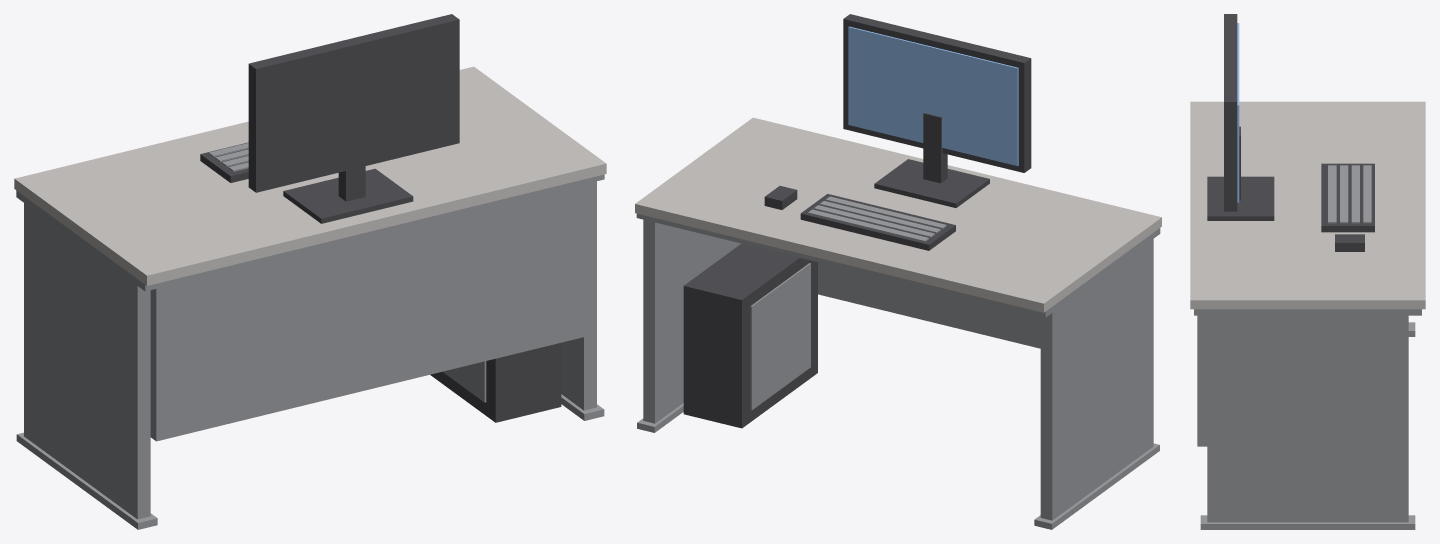
File: Workstation.fbx
3 renders of one model, left to right at view 1: azimuth 30°, elevation 25°; view 2: azimuth 150°, elevation 25°; view 3: azimuth 270°, elevation 25°, orthographic. The views are drawn at different scales.
Parts seen in each view (by area): view 1: Workstation; view 2: Workstation; view 3: Workstation.
Boxes of the visible parts, box(x1,y1,x2,y2) form: Workstation: box(14, 14, 606, 529); Workstation: box(635, 14, 1161, 529); Workstation: box(1190, 14, 1425, 529).
Bounding box in the file's own units: 1.42 × 1.22 × 0.7.
